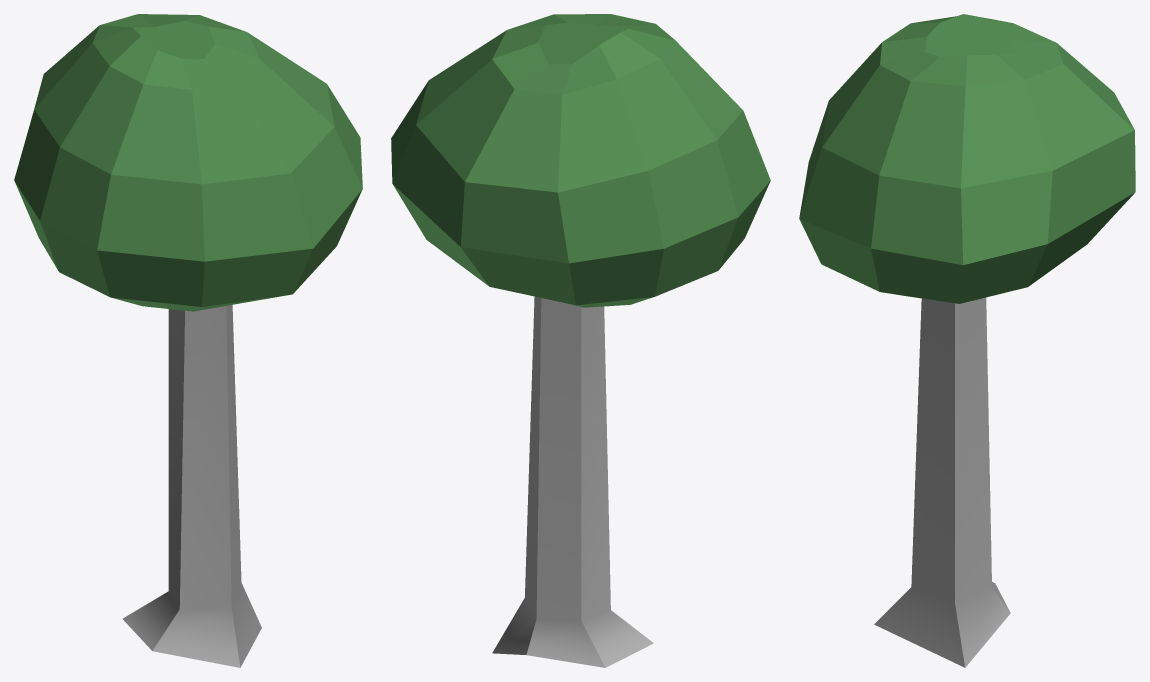
3 renders of one model, left to right at view 1: azimuth 30°, elevation 25°; view 2: azimuth 150°, elevation 25°; view 3: azimuth 270°, elevation 25°, orthographic. The views are drawn at different scales.
Visible parts, largest first — view 1: pSphere6, pCylinder25; view 2: pSphere6, pCylinder25; view 3: pSphere6, pCylinder25.
Part boxes in pixels (bbox=[...]): pSphere6: bbox=[14, 14, 362, 311]; pCylinder25: bbox=[122, 305, 261, 667]; pSphere6: bbox=[391, 14, 770, 307]; pCylinder25: bbox=[492, 296, 653, 667]; pSphere6: bbox=[799, 14, 1135, 303]; pCylinder25: bbox=[874, 297, 1010, 667].
Size of the model in its own units: 8.76 by 15.97 by 8.16.
